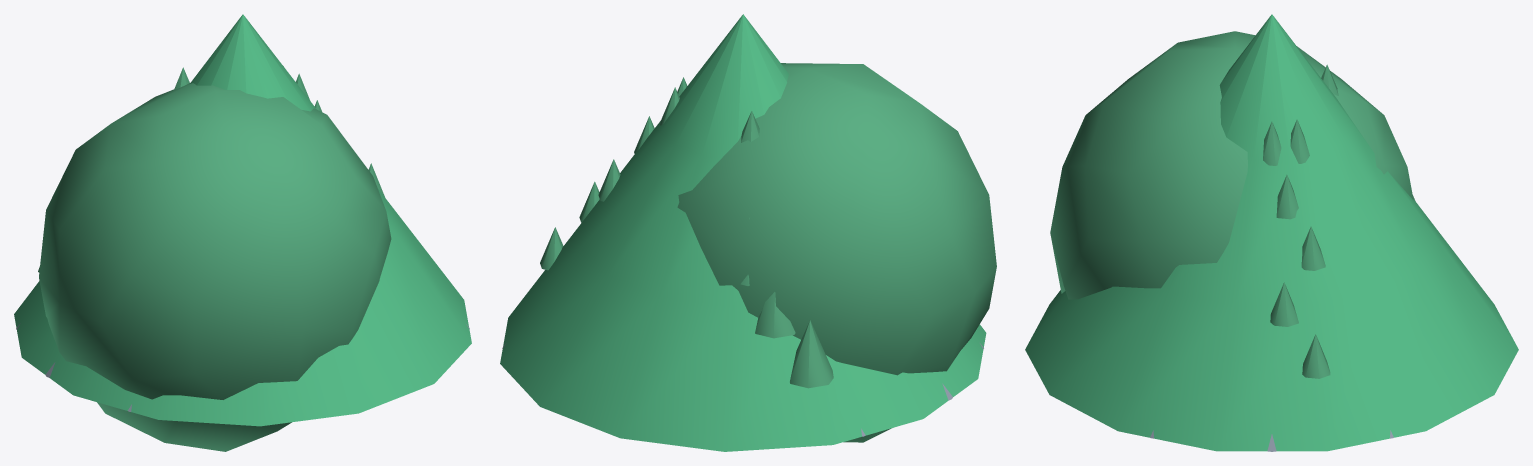
The model's file is sopka.glb.
3 views of the same model, side by side, from view 1: azimuth 30°, elevation 25°; view 2: azimuth 150°, elevation 25°; view 3: azimuth 270°, elevation 25° (orthographic). The views are drawn at different scales.
Parts seen in each view (by area): view 1: shoulder, cone; view 2: cone, shoulder, tree_14, tree_8, tree_9; view 3: cone, shoulder, tree_9, tree_3, tree_12, tree_6, tree_0, tree_15.
Boxes of the visible parts, <box> form: shoulder: <box>39,83,391,451</box>; cone: <box>14,14,471,426</box>; cone: <box>500,14,986,451</box>; shoulder: <box>677,63,996,442</box>; tree_14: <box>790,320,833,388</box>; tree_8: <box>755,292,795,338</box>; tree_9: <box>540,227,563,270</box>; cone: <box>1025,14,1518,451</box>; shoulder: <box>1050,31,1413,299</box>; tree_9: <box>1302,334,1330,378</box>; tree_3: <box>1270,282,1298,326</box>; tree_12: <box>1301,226,1325,270</box>; tree_6: <box>1276,175,1298,219</box>; tree_0: <box>1263,121,1281,165</box>; tree_15: <box>1290,119,1309,163</box>.
Size of the model in its own units: 63.42 by 60.96 by 64.
